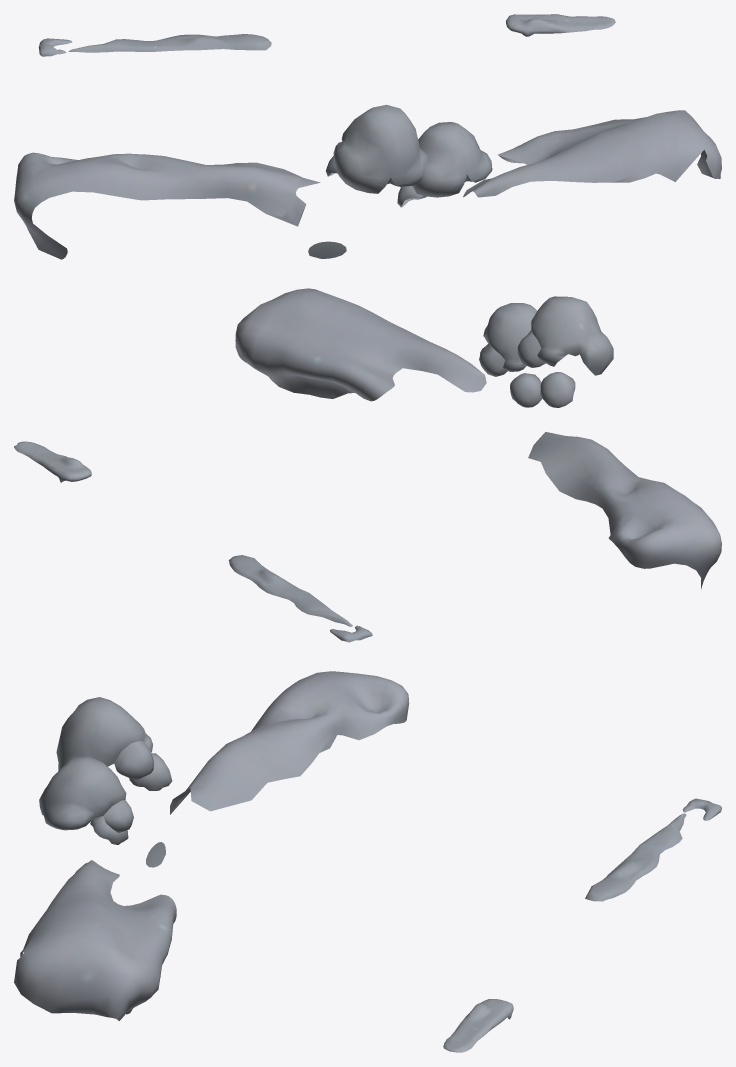
File: pref_sm_beach_plantsnowR01_lv3.fbx
The picture shows the model from 3 angles, top to bottom: view 1: azimuth 30°, elevation 25°; view 2: azimuth 150°, elevation 25°; view 3: azimuth 270°, elevation 25°; orthographic projection. The views are drawn at different scales.
Parts seen in each view (by area): view 1: pref_sm_beach_plantsnowR01_lv3; view 2: pref_sm_beach_plantsnowR01_lv3; view 3: pref_sm_beach_plantsnowR01_lv3.
Boxes of the visible parts, left/top/right/bottom form: pref_sm_beach_plantsnowR01_lv3: left=14, top=14, right=721, bottom=259; pref_sm_beach_plantsnowR01_lv3: left=14, top=288, right=721, bottom=642; pref_sm_beach_plantsnowR01_lv3: left=14, top=671, right=721, bottom=1052.
Size of the model in its own units: 20.07 by 4.75 by 17.05.
